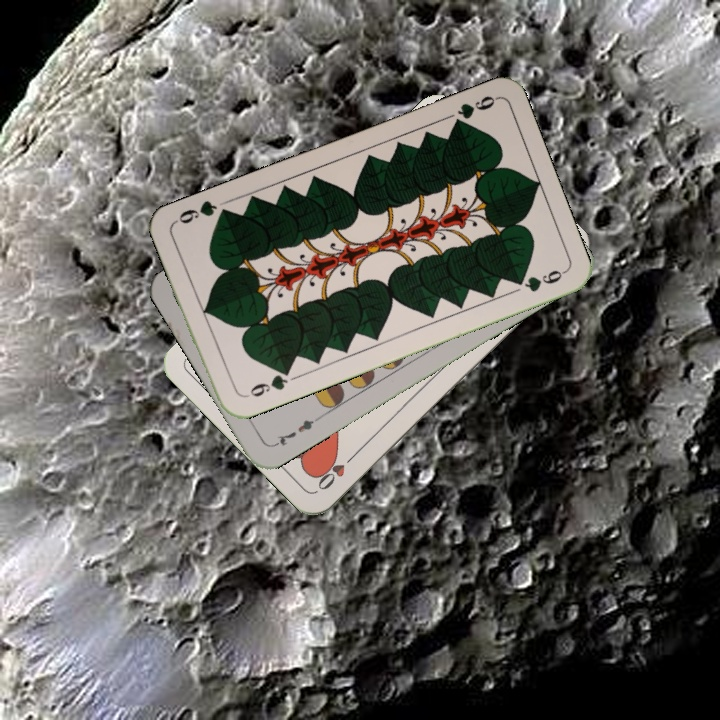E7: (269, 413, 322, 450)
G9: (447, 91, 500, 131), (239, 364, 293, 401)
HO: (313, 448, 360, 493)
